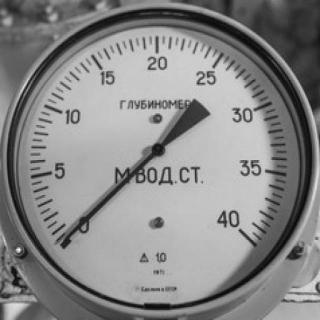gauge: (2, 3, 319, 320), (56, 218, 92, 252), (226, 215, 254, 245), (56, 232, 72, 252), (150, 141, 167, 158)
